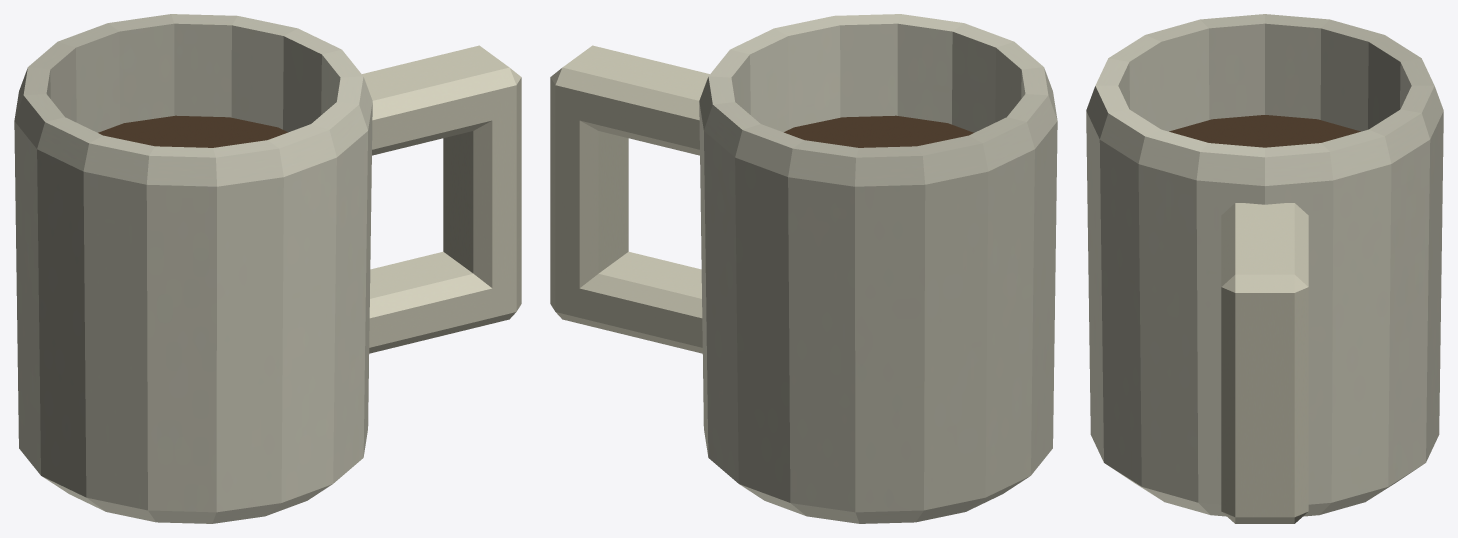
Rendered from mug.glb.
3 views of the same model, side by side, from view 1: azimuth 30°, elevation 25°; view 2: azimuth 150°, elevation 25°; view 3: azimuth 270°, elevation 25° (orthographic).
Visible parts, largest first — view 1: home_mug; view 2: home_mug; view 3: home_mug.
Boxes of the visible parts, left/top/right/bottom form: home_mug: left=14, top=14, right=521, bottom=523; home_mug: left=550, top=14, right=1057, bottom=523; home_mug: left=1086, top=14, right=1443, bottom=523.
Bounding box in the file's own units: 0.117 × 0.09 × 0.078.
Materials: 1 (1 with a texture image).
